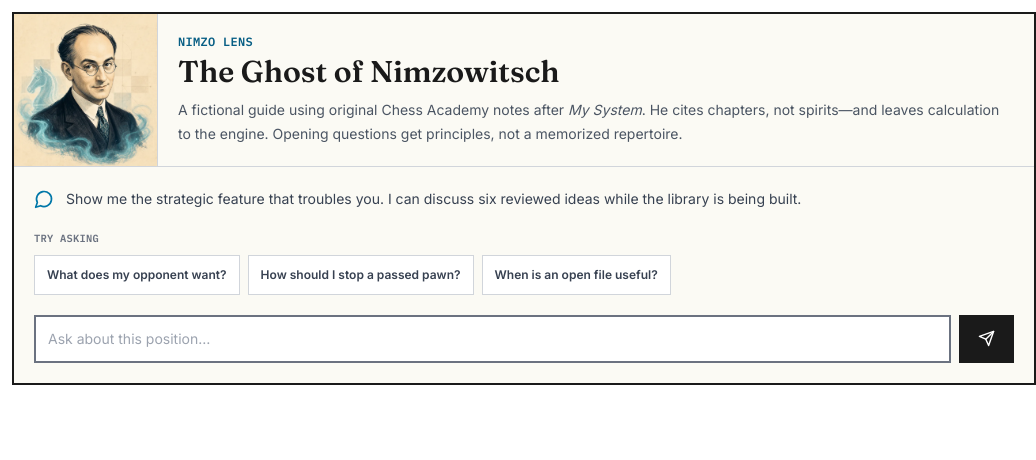
NimzoCoach › fails honestly when no reviewed concept matches
The image size is (1036, 460).
Type "Explain quantum castling on a hexagonal board" into the field named "Ask the Ghost of Nimzowitsch" at point(492, 339), box left=34, top=315, right=951, bottom=363
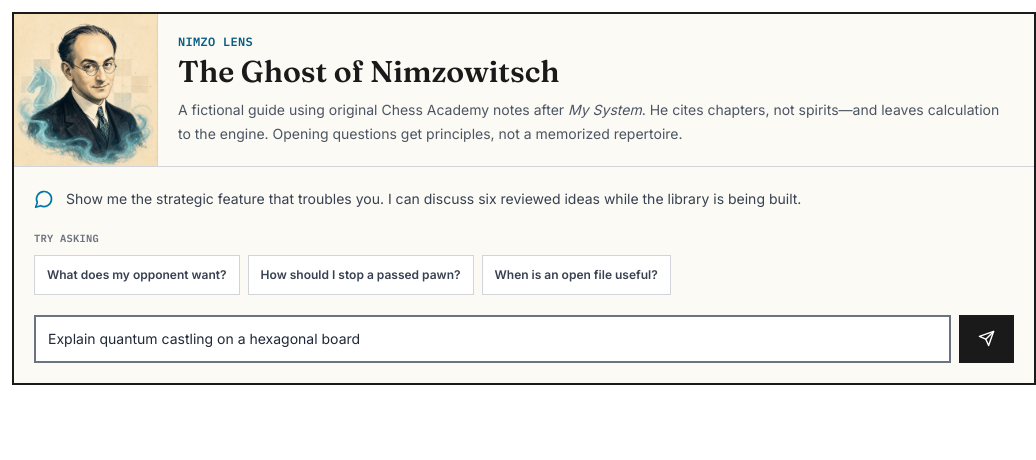
Click the button named "Ask the coach" at point(986, 339), box left=959, top=315, right=1014, bottom=363
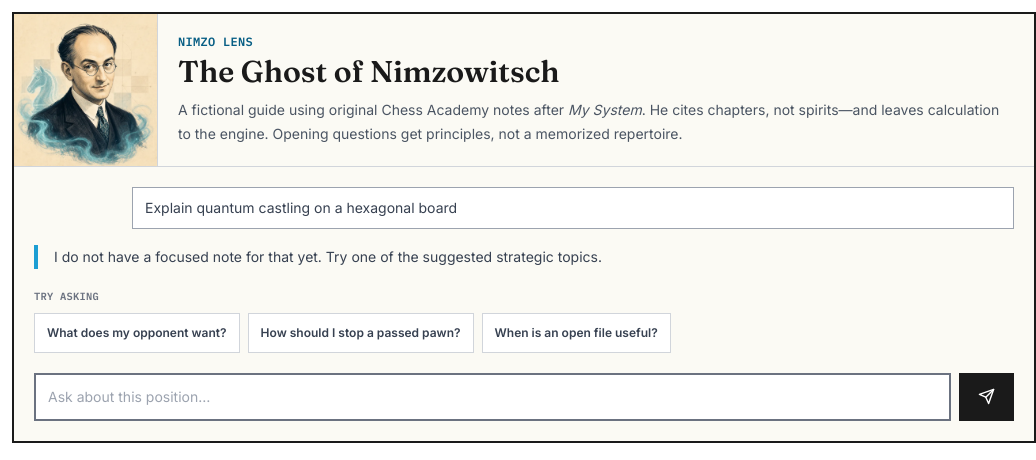
Check: the text "do not have a focused note for that yet" is shown, box left=54, top=248, right=602, bottom=265
